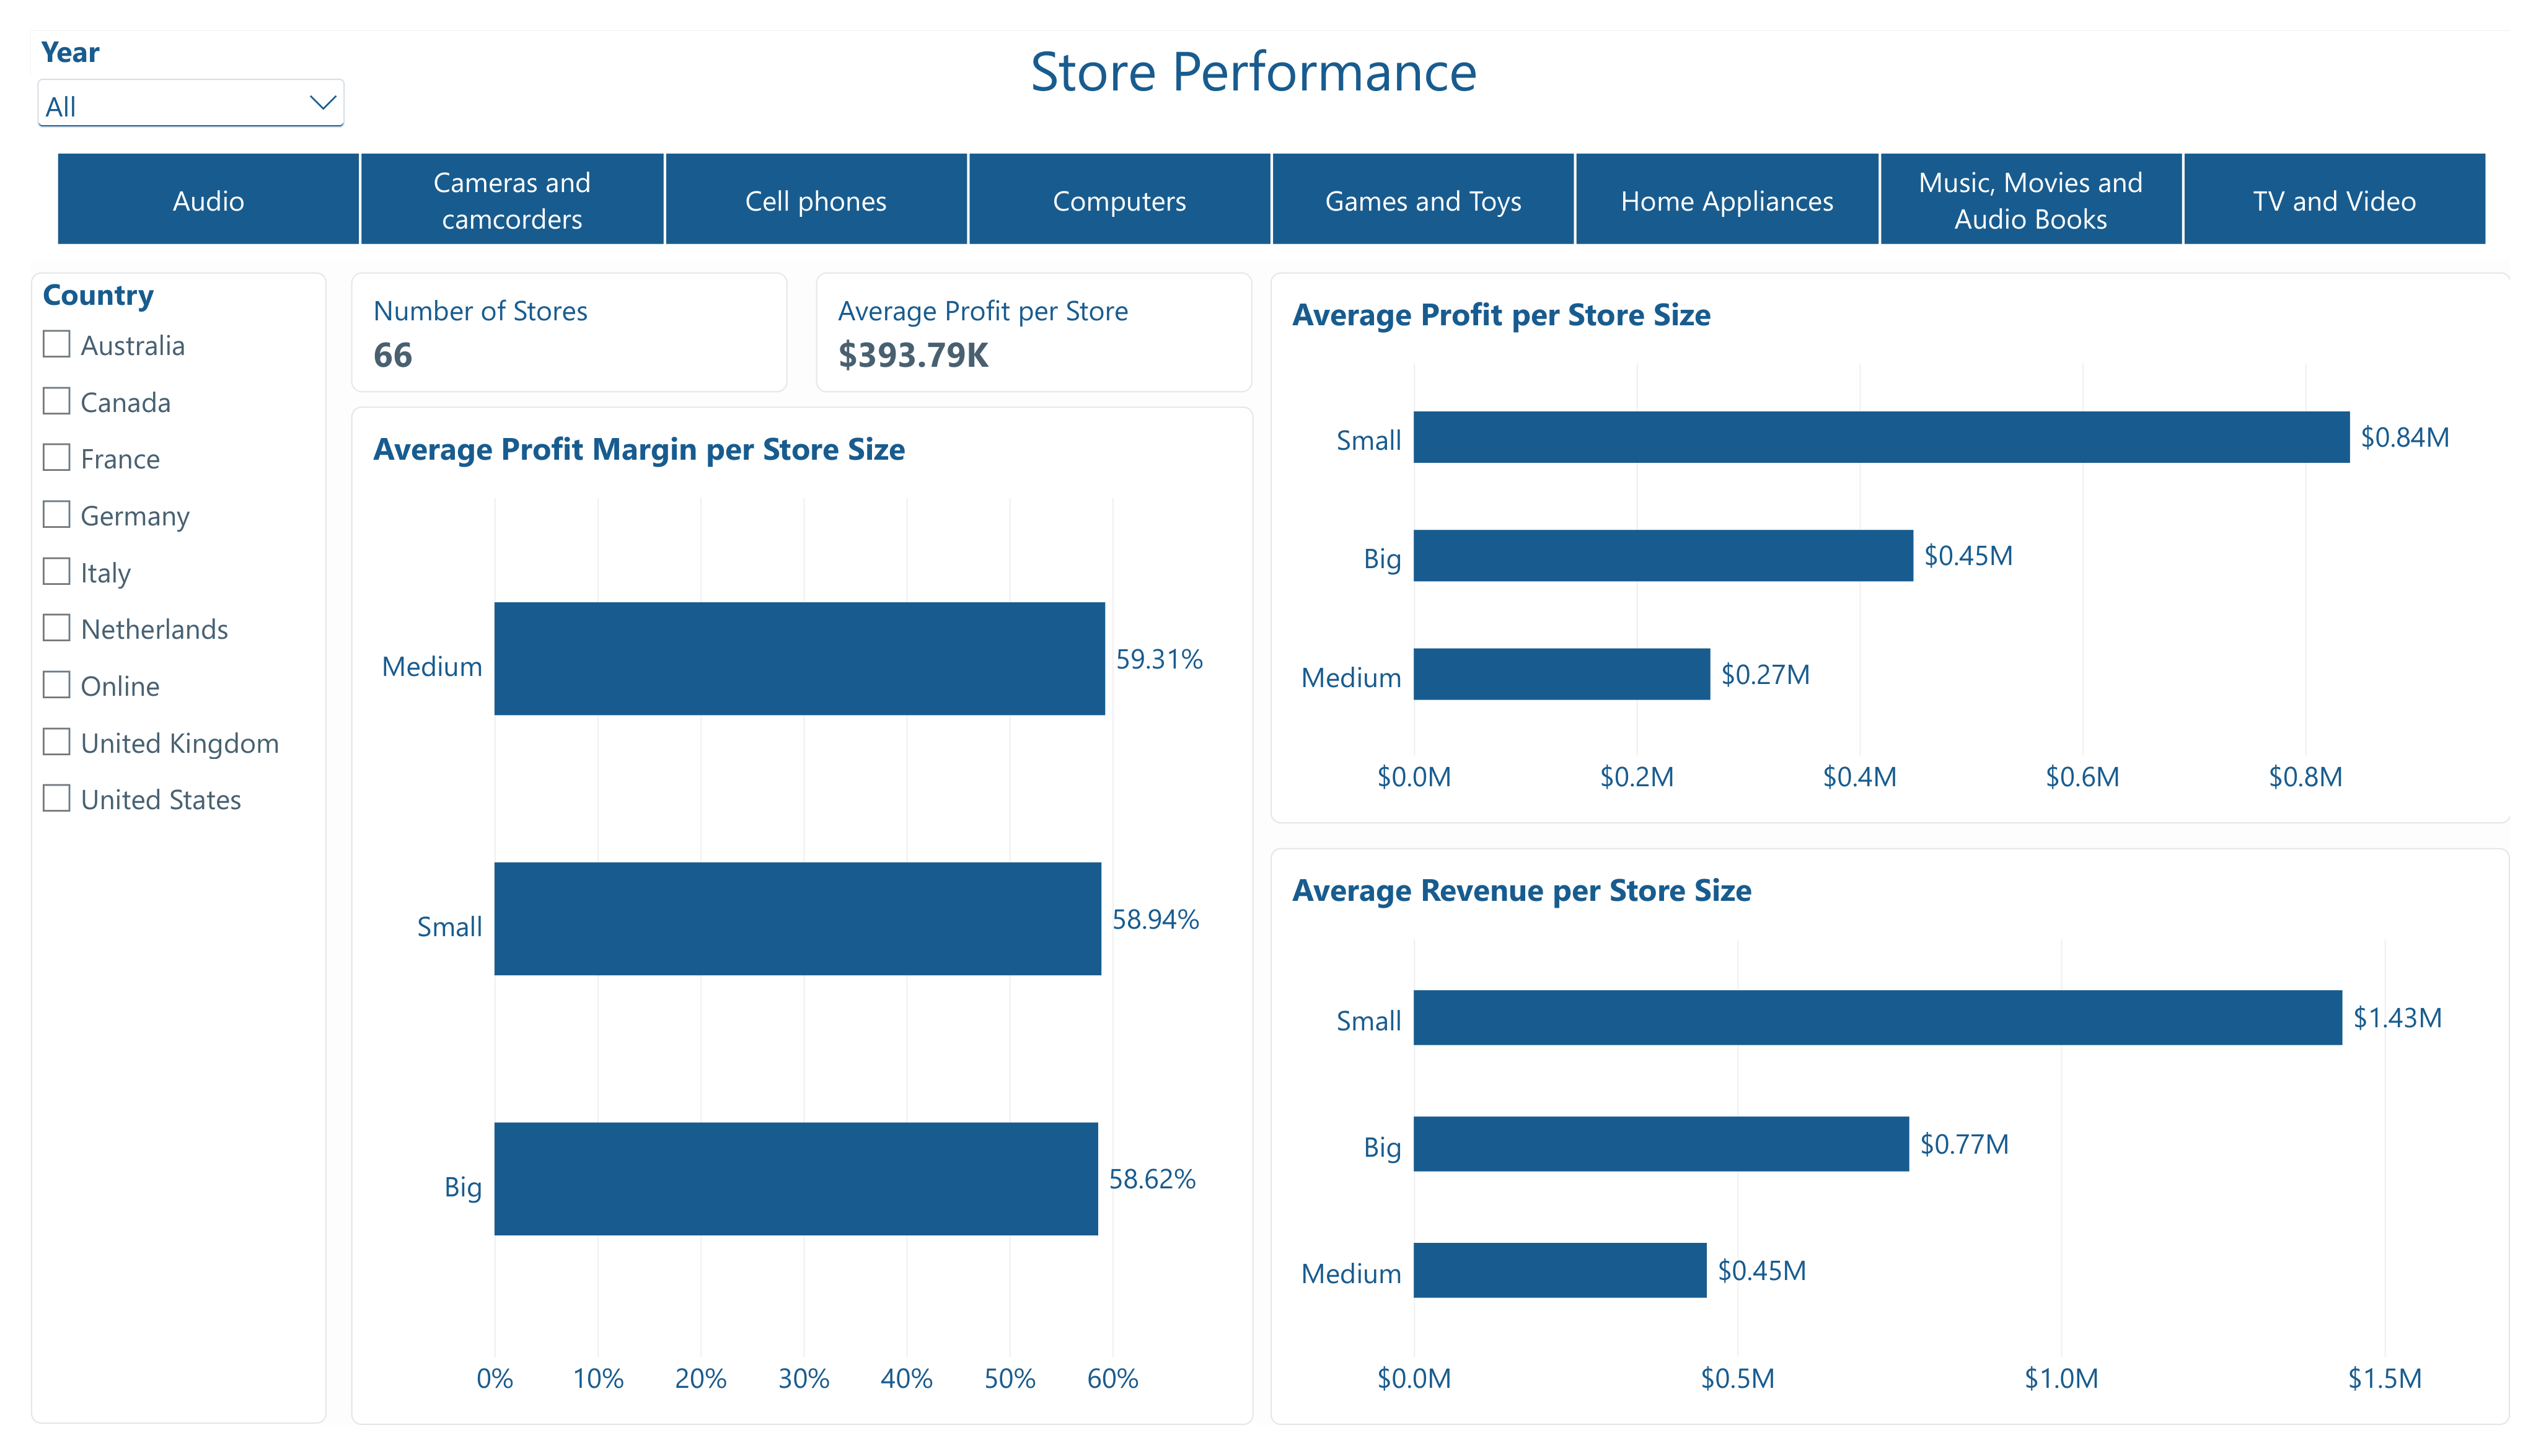

The page's visual inventory and layout, read from the dashboard file:
{"tool":"powerbi","page":{"name":"Store Performance","canvas":[1920,1080],"ordinal":3},"visuals":[{"type":"cardVisual","fields":{"Data":["Count(Stores.StoreKey)"]},"box":[247.9,187.4,337.9,93],"z":0},{"type":"cardVisual","fields":{"Data":["_Mesures.Average Profit per Store"]},"box":[607.9,187.4,337.9,93],"z":1000},{"type":"barChart","title":"Average Revenue per Store Size","fields":{"Category":["Stores.Store Size"],"Y":["_Mesures.Average Revenue per Store"]},"box":[960.5,633,959,447],"z":2000},{"type":"barChart","title":"Average Profit per Store Size","fields":{"Category":["Stores.Store Size"],"Y":["_Mesures.Average Profit per Store"]},"box":[960.5,187.4,960.5,426.4],"z":3000},{"type":"barChart","title":"Average Profit Margin per Store Size","fields":{"Category":["Stores.Store Size"],"Y":["_Mesures.Average Profit Margin per Customer"]},"box":[247.9,290.7,699.3,789.3],"z":4000},{"type":"textbox","box":[248.1,0,1671.9,93],"z":7000},{"type":"slicer","fields":{"Values":["DateTable.Year Hierarchy.Year"]},"box":[0,0,247.9,82.6],"z":7001},{"type":"slicer","fields":{"Values":["Stores.Country"]},"box":[0,187.4,228.7,891.1],"z":7002},{"type":"slicer","fields":{"Values":["Products.Category"]},"box":[0,82.6,1919.5,94.4],"z":7003}]}

Visuals, with their boxes on the page's 1920x1080 design canvas (x1, y1, x2, y2). These are canvas units, not pixel positions in the 2541x1456 screenshot, which may show the page scaled, cropped or inside an application window:
cardVisual - Count(Stores.StoreKey): [248,187,586,280]
cardVisual - _Mesures.Average Profit per Store: [608,187,946,280]
"Average Revenue per Store Size" barChart: [960,633,1920,1080]
"Average Profit per Store Size" barChart: [960,187,1921,614]
"Average Profit Margin per Store Size" barChart: [248,291,947,1080]
textbox: [248,0,1920,93]
slicer - DateTable.Year Hierarchy.Year: [0,0,248,83]
slicer - Stores.Country: [0,187,229,1078]
slicer - Products.Category: [0,83,1920,177]
